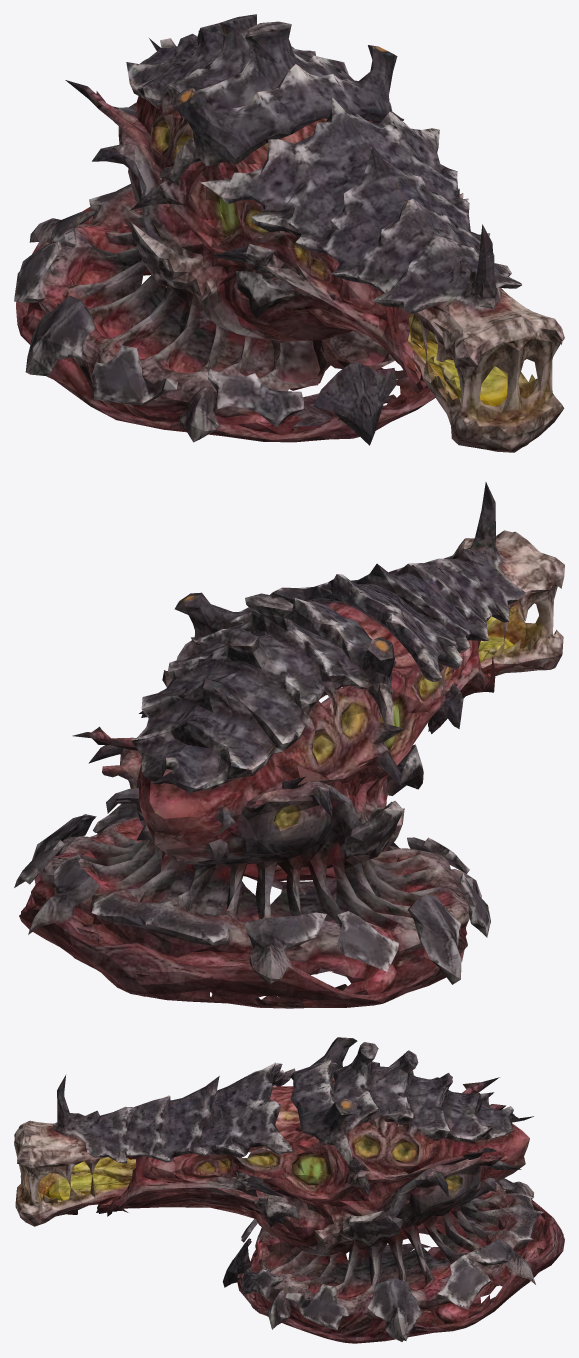
The model's file is 01_生物砲囊.glb.
3 renders of one model, top to bottom at view 1: azimuth 30°, elevation 25°; view 2: azimuth 150°, elevation 25°; view 3: azimuth 270°, elevation 25°, orthographic. The views are drawn at different scales.
Parts seen in each view (by area): view 1: part_1; view 2: part_1; view 3: part_1.
Part boxes in pixels (left/top/right/bottom): part_1: left=14, top=14, right=564, bottom=452; part_1: left=14, top=482, right=564, bottom=1008; part_1: left=14, top=1037, right=564, bottom=1343.
Size of the model in its own units: 0.633 by 0.4858 by 0.9925.
1 material, 1 textured.
